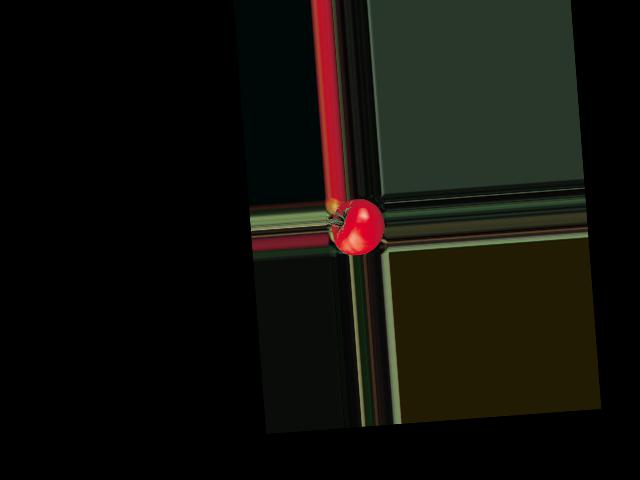tomato: (330, 198, 387, 257)
